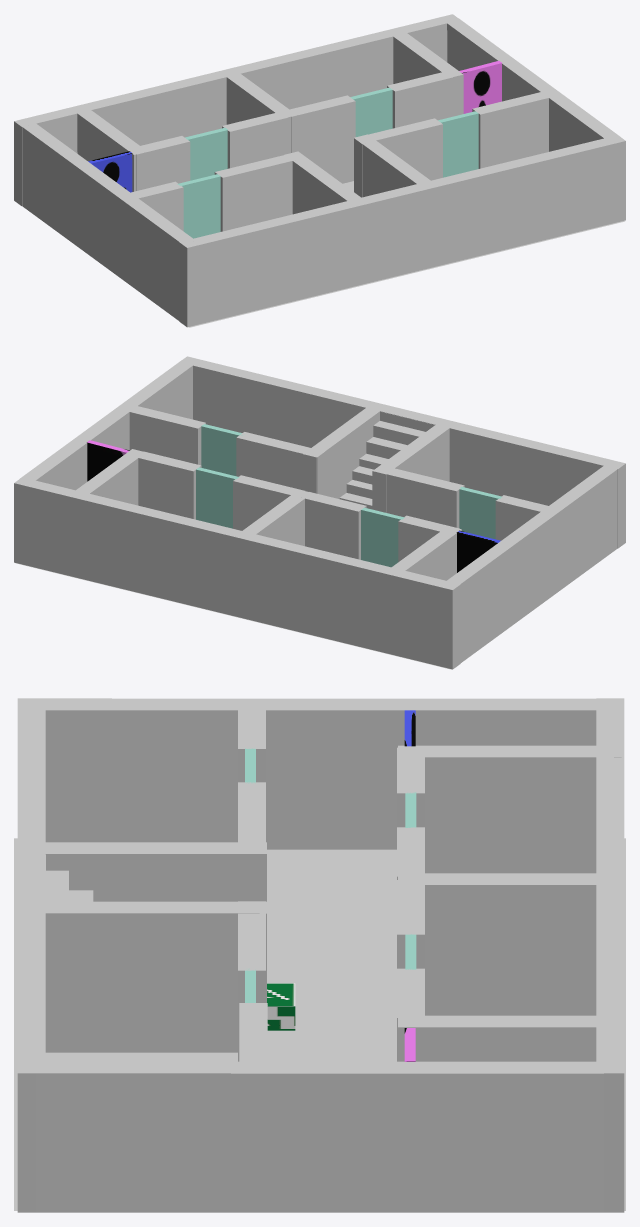
The model's file is 2floor.fbx.
3 views of the same model, one above another, from view 1: azimuth 30°, elevation 25°; view 2: azimuth 150°, elevation 25°; view 3: azimuth 270°, elevation 25° (orthographic). The views are drawn at different scales.
Visible parts, largest first — view 1: Куб.002, Куб.001, Куб.004, Куб.003, Куб.022, Куб.021, Куб.031, Куб.020, Куб.030, Куб.019, Куб.007, Куб.024 (+12 smaller); view 2: Куб.001, Куб.002, Куб.004, Куб.003, Куб.008, Куб.020, Куб.022, Куб.030, Куб.021, Куб.019, Куб.006, Куб.031 (+15 smaller); view 3: Куб.003, Куб.004, Плоскость, Куб.008, Куб.005, Куб.018, Куб.002, Куб.001, Куб.006, Куб.007, Куб.020, Куб.031 (+8 smaller).
Part boxes in pixels (x1,y1,x2,y2): Куб.002: (179, 137, 625, 327); Куб.001: (14, 14, 458, 205); Куб.004: (22, 122, 195, 320); Куб.003: (447, 18, 620, 151); Куб.022: (214, 153, 299, 231); Куб.021: (472, 92, 549, 168); Куб.031: (290, 95, 355, 183); Куб.020: (354, 118, 442, 197); Куб.030: (387, 71, 452, 128); Куб.019: (222, 112, 287, 168); Куб.007: (393, 28, 463, 116); Куб.024: (129, 136, 190, 190); Куб.001: (14, 479, 460, 669); Куб.002: (182, 356, 625, 548); Куб.004: (444, 464, 617, 662); Куб.003: (20, 360, 192, 490); Куб.008: (303, 407, 379, 498); Куб.020: (236, 432, 325, 495); Куб.022: (380, 467, 464, 528); Куб.030: (136, 451, 201, 519); Куб.021: (129, 406, 205, 465); Куб.019: (301, 492, 366, 559); Куб.006: (372, 424, 449, 512); Куб.031: (233, 475, 304, 530); Куб.003: (35, 1061, 603, 1212); Куб.004: (35, 698, 603, 849); Плоскость: (14, 838, 625, 1210); Куб.008: (43, 901, 266, 1052); Куб.005: (398, 873, 621, 1015); Куб.018: (398, 745, 621, 873); Куб.002: (17, 698, 45, 1212); Куб.001: (596, 698, 624, 1212); Куб.006: (43, 842, 266, 901); Куб.007: (398, 1015, 621, 1061); Куб.020: (238, 901, 265, 1061); Куб.031: (397, 880, 424, 968).
Size of the model in its own units: 6330 by 1138 by 4362.
6 materials, 3 textured.
